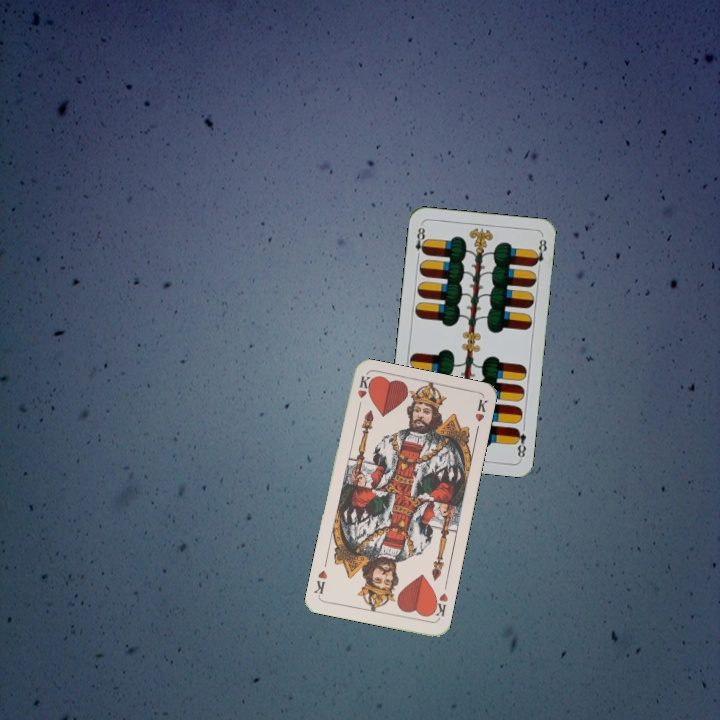E8: (411, 223, 429, 261), (511, 424, 529, 460)
HK: (353, 372, 373, 413), (428, 589, 451, 619)
